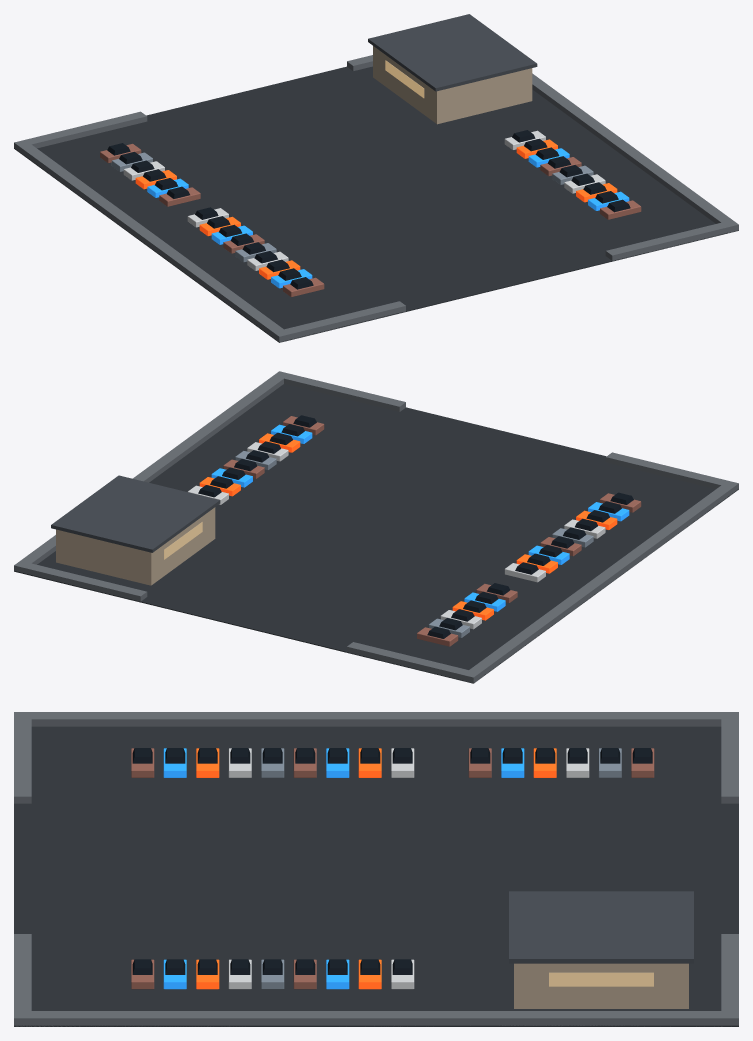
Rendered from block_parking.glb.
3 renders of one model, top to bottom at view 1: azimuth 30°, elevation 25°; view 2: azimuth 150°, elevation 25°; view 3: azimuth 270°, elevation 25°, orthographic. The views are drawn at different scales.
Parts seen in each view (by area): view 1: BlockParking; view 2: BlockParking; view 3: BlockParking.
Part boxes in pixels (x1,y1,x2,y2): BlockParking: (14, 14, 738, 342); BlockParking: (14, 371, 738, 683); BlockParking: (14, 712, 738, 1026).
Bounding box in the file's own units: 58 × 4.78 × 58.
